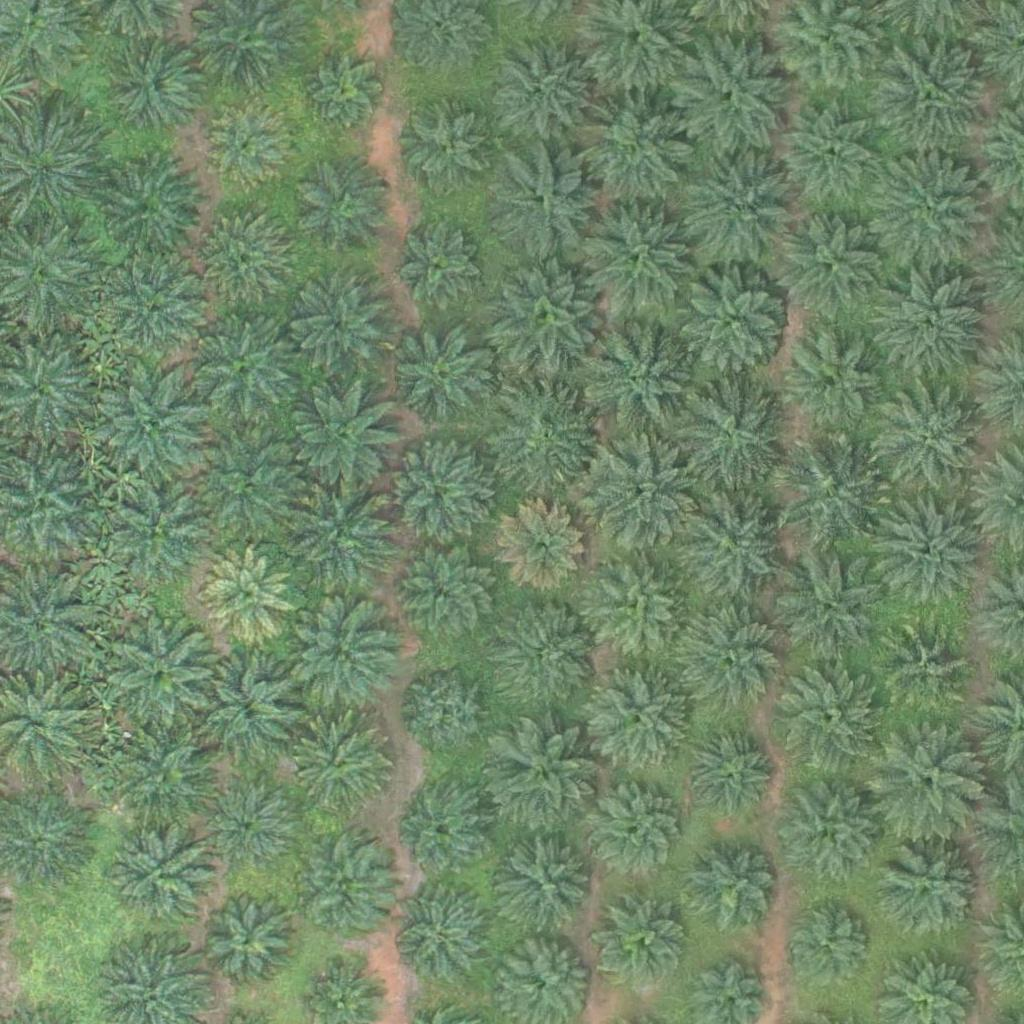Kelapa_Sawit: (92, 149, 205, 263), (97, 254, 210, 368), (189, 308, 302, 422), (195, 434, 308, 548), (287, 379, 400, 493), (875, 38, 988, 152), (875, 156, 988, 270), (284, 602, 397, 716), (484, 33, 597, 146), (490, 146, 603, 259), (490, 260, 603, 373), (580, 201, 693, 314), (582, 327, 695, 440), (585, 437, 698, 550), (871, 269, 984, 382), (878, 387, 991, 500), (677, 490, 790, 603), (285, 477, 398, 590), (100, 367, 212, 481), (108, 617, 220, 731), (193, 651, 305, 765), (491, 382, 603, 495), (579, 95, 691, 208), (678, 39, 790, 152), (684, 151, 796, 264), (678, 263, 790, 376), (673, 376, 785, 489), (777, 206, 889, 319), (774, 436, 886, 549), (872, 723, 984, 836), (771, 662, 883, 775), (871, 490, 983, 603), (775, 549, 887, 662), (493, 725, 605, 838), (105, 36, 205, 137), (295, 152, 395, 253), (290, 277, 390, 378), (396, 102, 496, 203), (389, 325, 489, 426), (786, 329, 886, 430), (879, 838, 979, 939), (782, 782, 882, 883), (679, 604, 779, 705), (590, 555, 690, 656), (114, 730, 214, 831), (116, 833, 216, 934), (397, 541, 497, 642), (499, 601, 599, 702), (389, 441, 489, 541), (781, 107, 881, 207), (589, 667, 689, 767), (587, 778, 687, 878), (103, 481, 203, 581), (291, 717, 391, 817), (295, 849, 395, 949), (882, 624, 970, 713), (202, 105, 290, 193), (303, 45, 391, 133), (393, 221, 481, 309), (600, 898, 688, 986), (497, 502, 585, 590), (200, 781, 288, 869), (202, 898, 290, 986), (503, 838, 591, 926), (202, 210, 289, 298), (785, 898, 872, 986), (684, 728, 771, 816), (690, 847, 777, 935), (204, 547, 291, 635), (405, 669, 492, 757), (406, 787, 493, 875), (397, 893, 484, 981)
